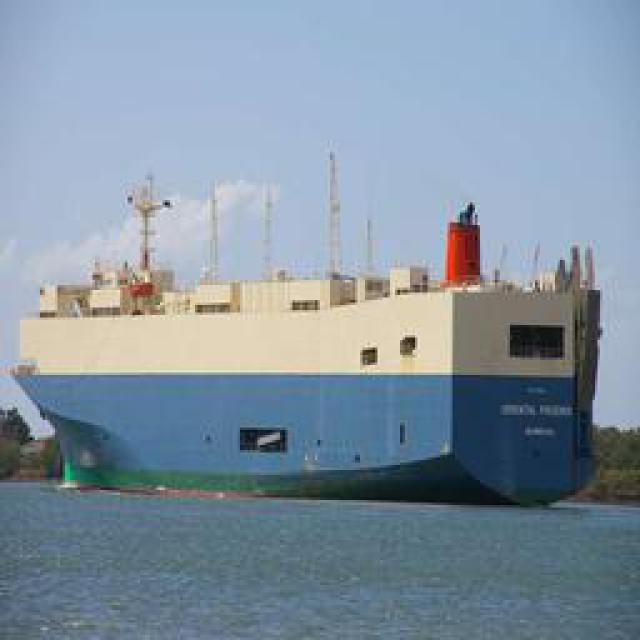Ship: (2, 183, 594, 501)
